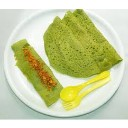dosa: (42, 10, 123, 73)
